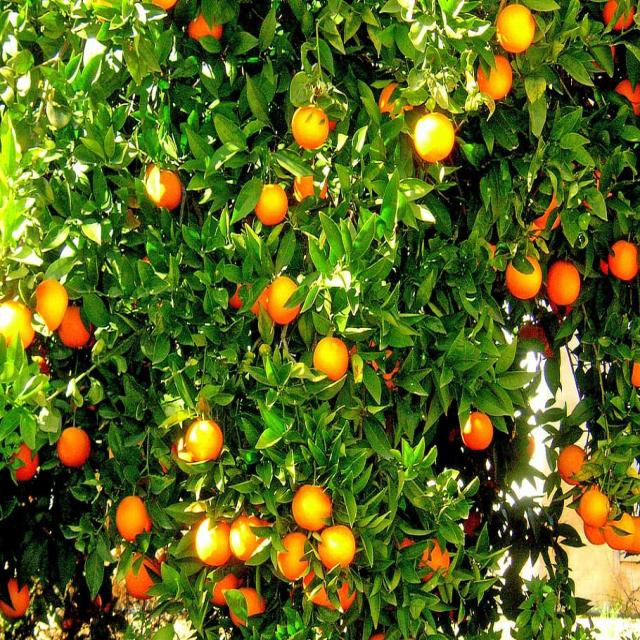orange: (30, 266, 71, 348), (488, 1, 539, 57), (419, 112, 471, 165), (115, 482, 153, 549), (474, 56, 522, 109), (57, 426, 108, 475), (190, 517, 232, 569), (459, 413, 501, 461), (277, 528, 310, 586), (292, 478, 325, 535), (180, 417, 222, 460), (267, 272, 298, 324), (315, 333, 348, 381), (0, 300, 30, 351), (248, 183, 286, 223), (510, 262, 544, 306), (230, 514, 261, 562), (152, 168, 185, 211), (0, 574, 31, 618), (612, 246, 640, 294), (558, 444, 588, 482), (549, 264, 576, 304), (188, 19, 224, 48), (581, 492, 612, 525), (606, 514, 630, 551), (12, 441, 33, 480), (64, 314, 92, 342)
